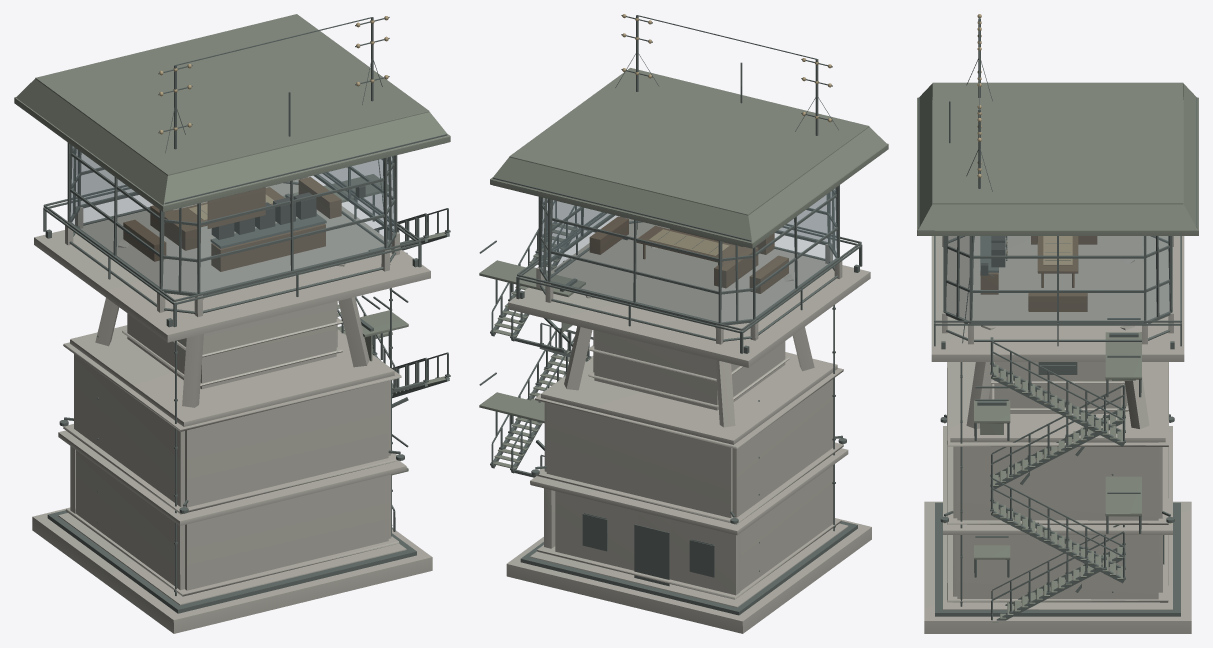
File: Control_Tower_HQ_23_LOD2.glb
The picture shows the model from 3 angles, left to right: view 1: azimuth 30°, elevation 25°; view 2: azimuth 150°, elevation 25°; view 3: azimuth 270°, elevation 25°; orthographic projection. The views are drawn at different scales.
Parts seen in each view (by area): view 1: HQ23 Tower LOD2 | HQ23 Tower | Combined | aged poured concre, HQ23 Tower LOD2 | HQ23 Tower | Combined | faded galvanized w, HQ23 Tower LOD2 | HQ23 Tower | Combined | lightly smoky wart, HQ23 Tower LOD2 | HQ23 Tower | Combined | dark oxide steel a, HQ23 Tower LOD2 | HQ23 Tower | Combined | dark varnished ope, HQ23 Tower LOD2 | HQ23 Tower | Combined | radio bakelite and; view 2: HQ23 Tower LOD2 | HQ23 Tower | Combined | aged poured concre, HQ23 Tower LOD2 | HQ23 Tower | Combined | faded galvanized w, HQ23 Tower LOD2 | HQ23 Tower | Combined | dark oxide steel a, HQ23 Tower LOD2 | HQ23 Tower | Combined | lightly smoky wart, HQ23 Tower LOD2 | HQ23 Tower | Combined | dark varnished ope, HQ23 Tower LOD2 | HQ23 Tower | Combined | folded map and can; view 3: HQ23 Tower LOD2 | HQ23 Tower | Combined | aged poured concre, HQ23 Tower LOD2 | HQ23 Tower | Combined | faded galvanized w, HQ23 Tower LOD2 | HQ23 Tower | Combined | dark oxide steel a, HQ23 Tower LOD2 | HQ23 Tower | Combined | lightly smoky wart, HQ23 Tower LOD2 | HQ23 Tower | Combined | dark varnished ope, HQ23 Tower LOD2 | HQ23 Tower | Combined | folded map and can, HQ23 Tower LOD2 | HQ23 Tower | Combined | radio bakelite and.
Part boxes in pixels (left/top/right/bottom): HQ23 Tower LOD2 | HQ23 Tower | Combined | aged poured concre: left=32, top=177, right=432, bottom=633; HQ23 Tower LOD2 | HQ23 Tower | Combined | faded galvanized w: left=14, top=14, right=450, bottom=525; HQ23 Tower LOD2 | HQ23 Tower | Combined | lightly smoky wart: left=70, top=146, right=394, bottom=292; HQ23 Tower LOD2 | HQ23 Tower | Combined | dark oxide steel a: left=43, top=17, right=450, bottom=613; HQ23 Tower LOD2 | HQ23 Tower | Combined | dark varnished ope: left=123, top=177, right=341, bottom=271; HQ23 Tower LOD2 | HQ23 Tower | Combined | radio bakelite and: left=211, top=186, right=365, bottom=239; HQ23 Tower LOD2 | HQ23 Tower | Combined | aged poured concre: left=506, top=217, right=871, bottom=633; HQ23 Tower LOD2 | HQ23 Tower | Combined | faded galvanized w: left=479, top=68, right=888, bottom=469; HQ23 Tower LOD2 | HQ23 Tower | Combined | dark oxide steel a: left=479, top=15, right=862, bottom=615; HQ23 Tower LOD2 | HQ23 Tower | Combined | lightly smoky wart: left=540, top=188, right=837, bottom=322; HQ23 Tower LOD2 | HQ23 Tower | Combined | dark varnished ope: left=589, top=216, right=788, bottom=293; HQ23 Tower LOD2 | HQ23 Tower | Combined | folded map and can: left=535, top=14, right=843, bottom=524; HQ23 Tower LOD2 | HQ23 Tower | Combined | aged poured concre: left=924, top=236, right=1191, bottom=633; HQ23 Tower LOD2 | HQ23 Tower | Combined | faded galvanized w: left=917, top=82, right=1198, bottom=622; HQ23 Tower LOD2 | HQ23 Tower | Combined | dark oxide steel a: left=918, top=16, right=1197, bottom=620; HQ23 Tower LOD2 | HQ23 Tower | Combined | lightly smoky wart: left=946, top=236, right=1169, bottom=320; HQ23 Tower LOD2 | HQ23 Tower | Combined | dark varnished ope: left=980, top=236, right=1097, bottom=311; HQ23 Tower LOD2 | HQ23 Tower | Combined | folded map and can: left=944, top=14, right=1170, bottom=523; HQ23 Tower LOD2 | HQ23 Tower | Combined | radio bakelite and: left=981, top=236, right=1007, bottom=275.
Size of the model in its own units: 14.48 by 22.65 by 11.34.
